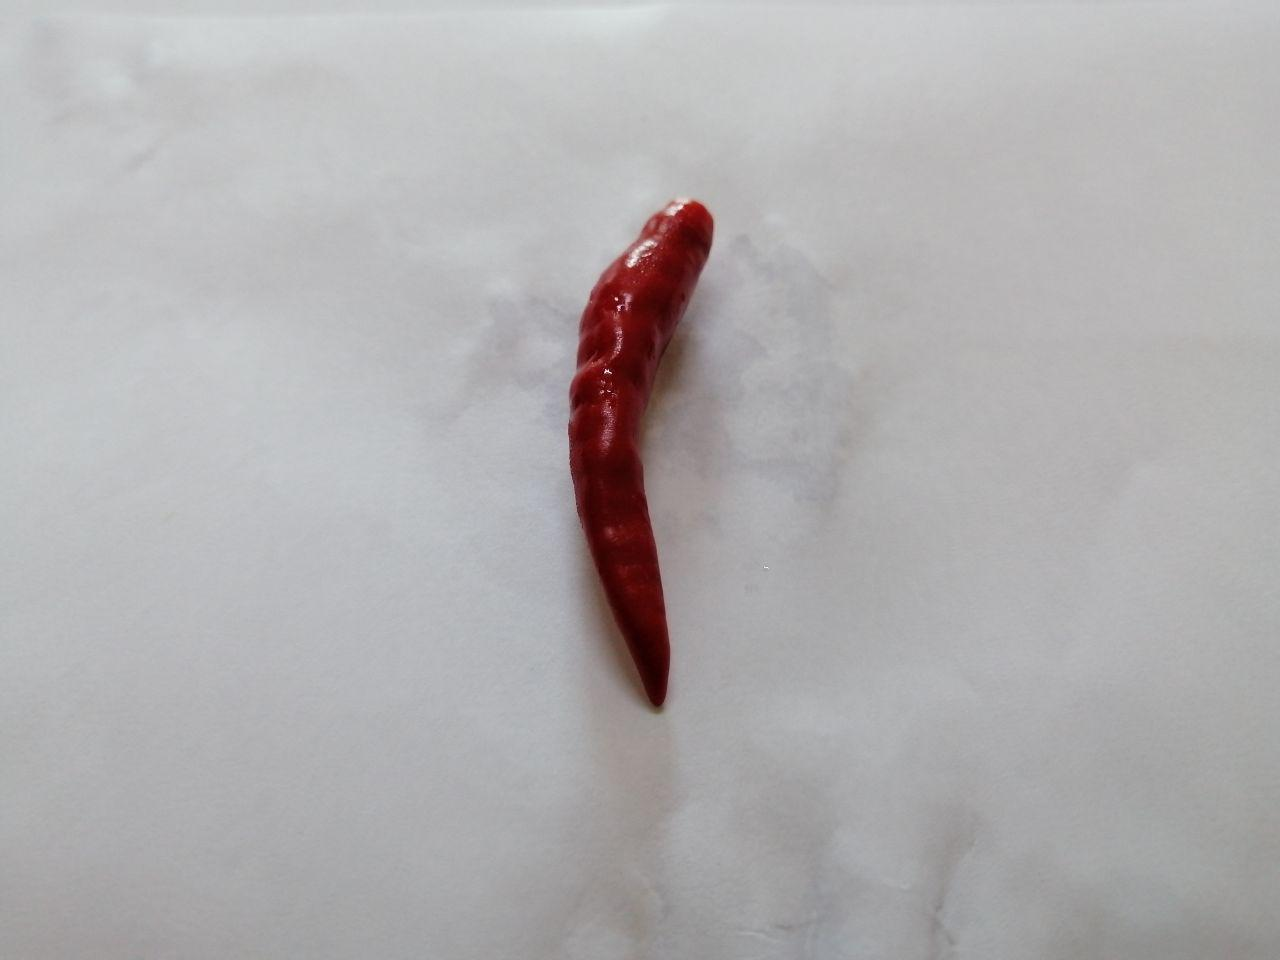lada merah: (550, 172, 740, 719)
